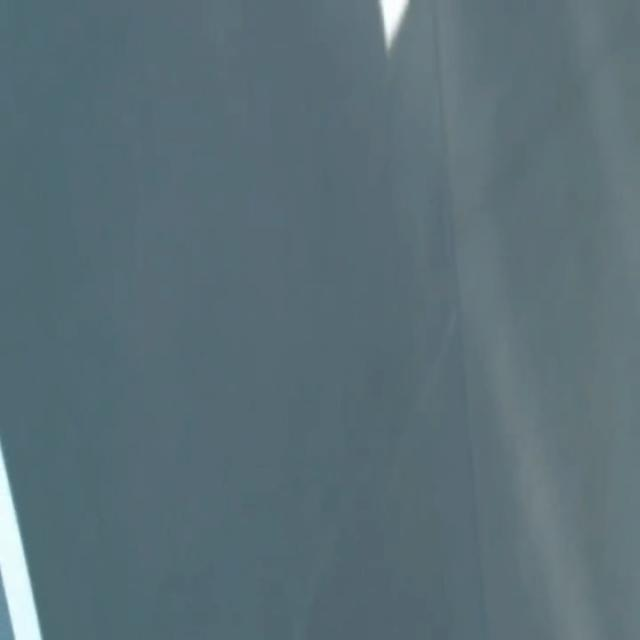center: (379, 0, 409, 51)
left: (0, 445, 42, 639)
